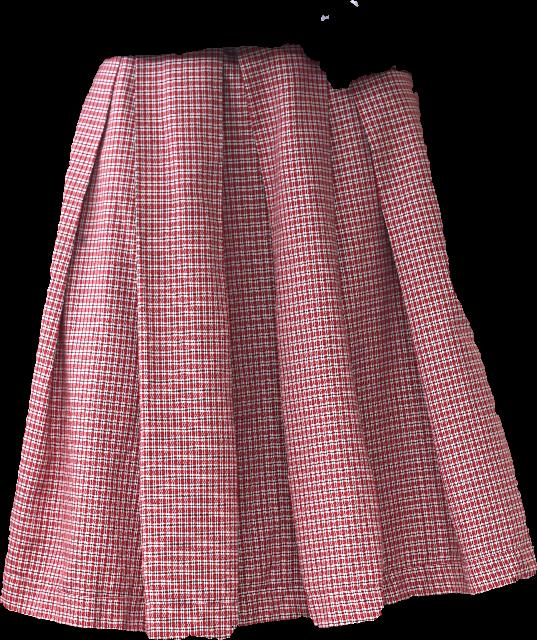skirt: (0, 44, 536, 639)
